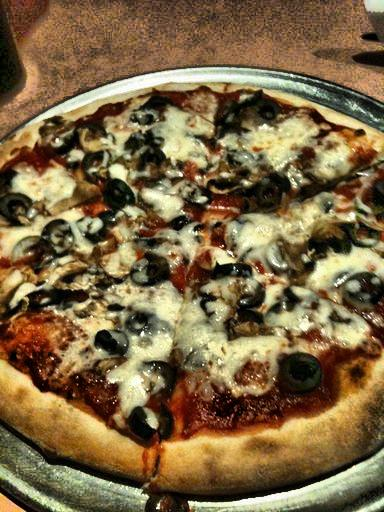pizza: (2, 102, 384, 490)
